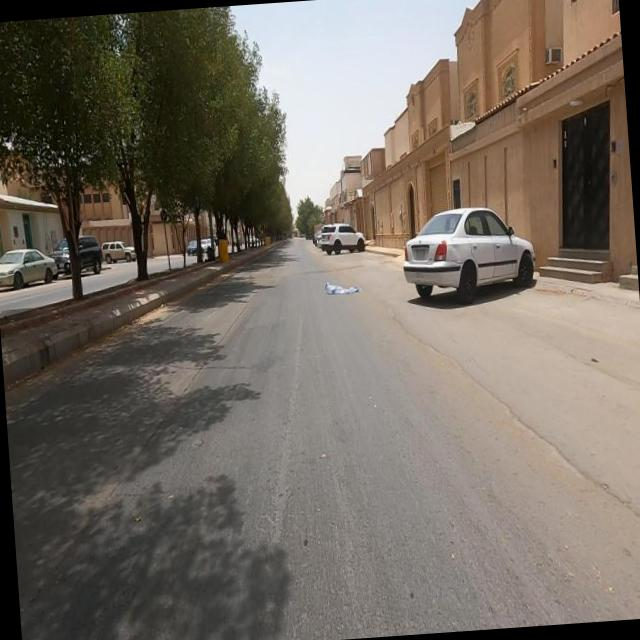debris: (260, 236, 408, 343)
